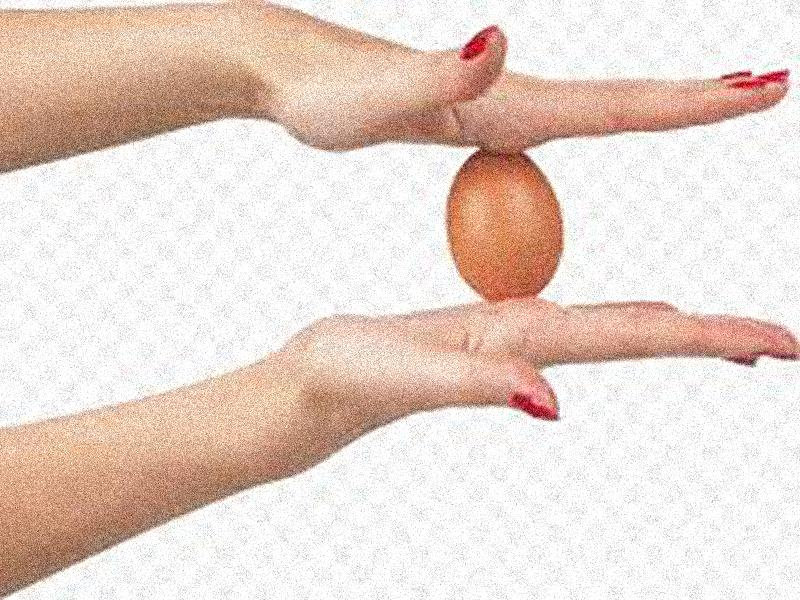Eggs: (446, 151, 559, 302)
